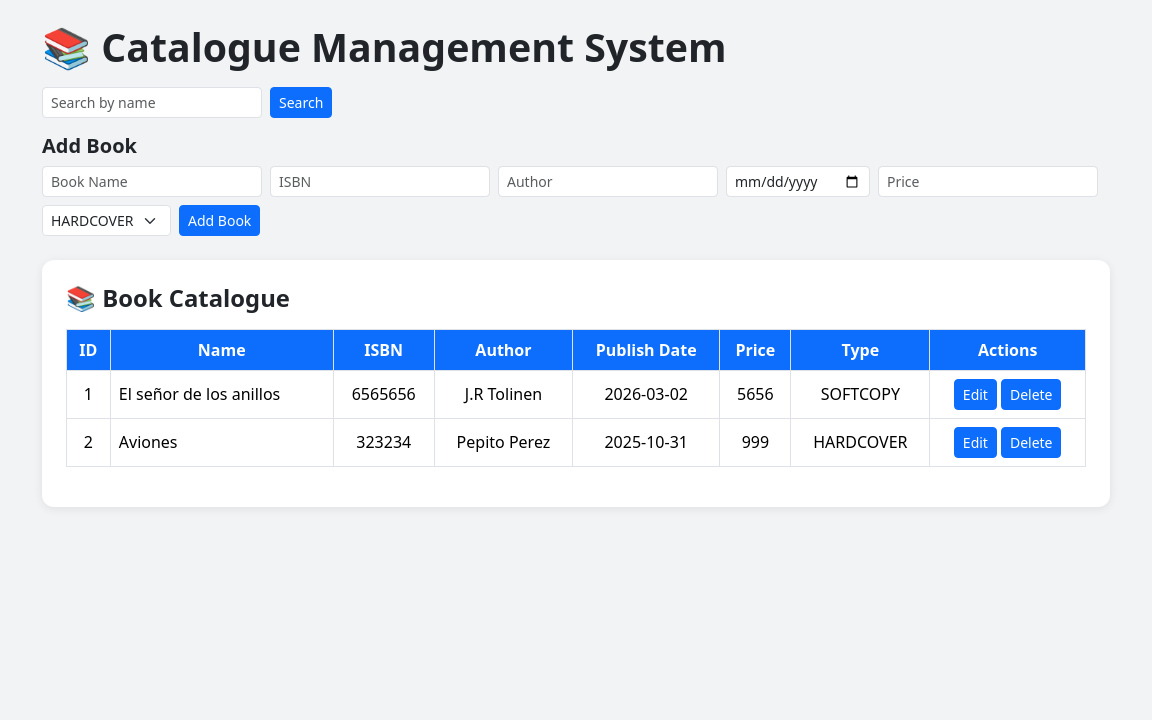
App (flujo completo CRUD + búsqueda) › editar un libro: precarga el formulario, actualiza y refleja el cambio en la tabla
Click the button "Edit" in the row of "Aviones" at coordinates (975, 442), box top-left (954, 427), bottom-right (997, 458)
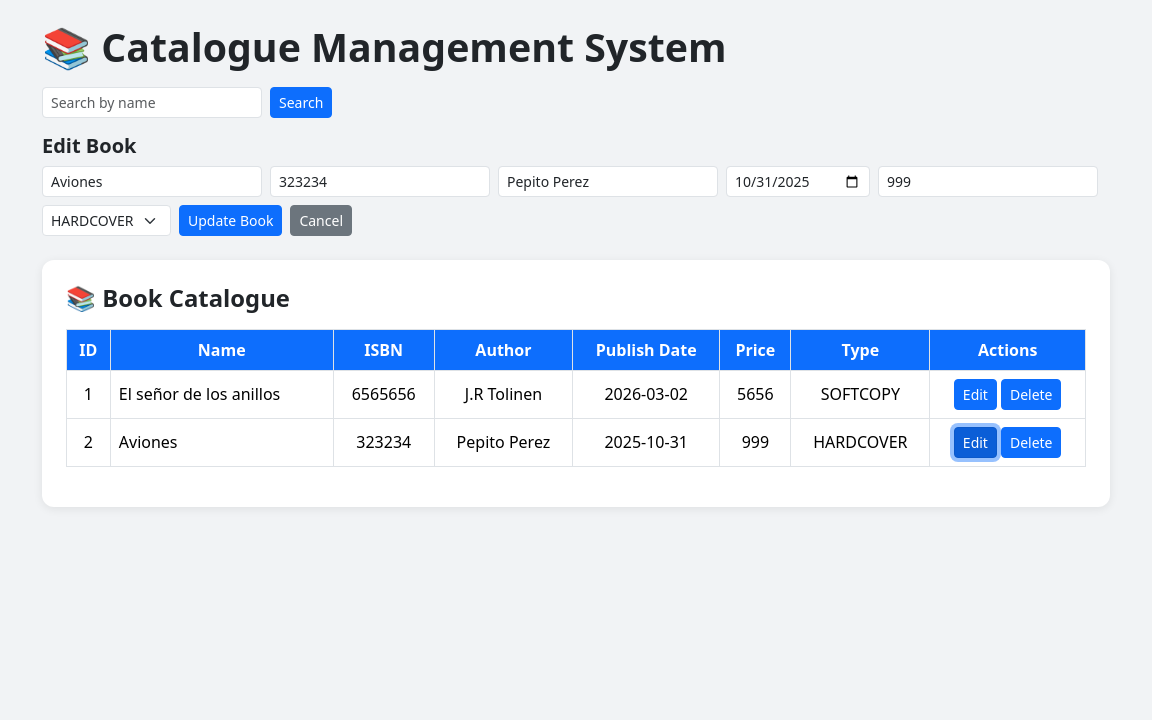
Now the heading "Edit Book" is shown, box top-left (42, 132), bottom-right (136, 159)
Now the field named "Book Name" holds "Aviones"
Replace the text in the field named "Book Name" with "Aviones y helicópteros" at coordinates (152, 182), box top-left (42, 166), bottom-right (262, 197)
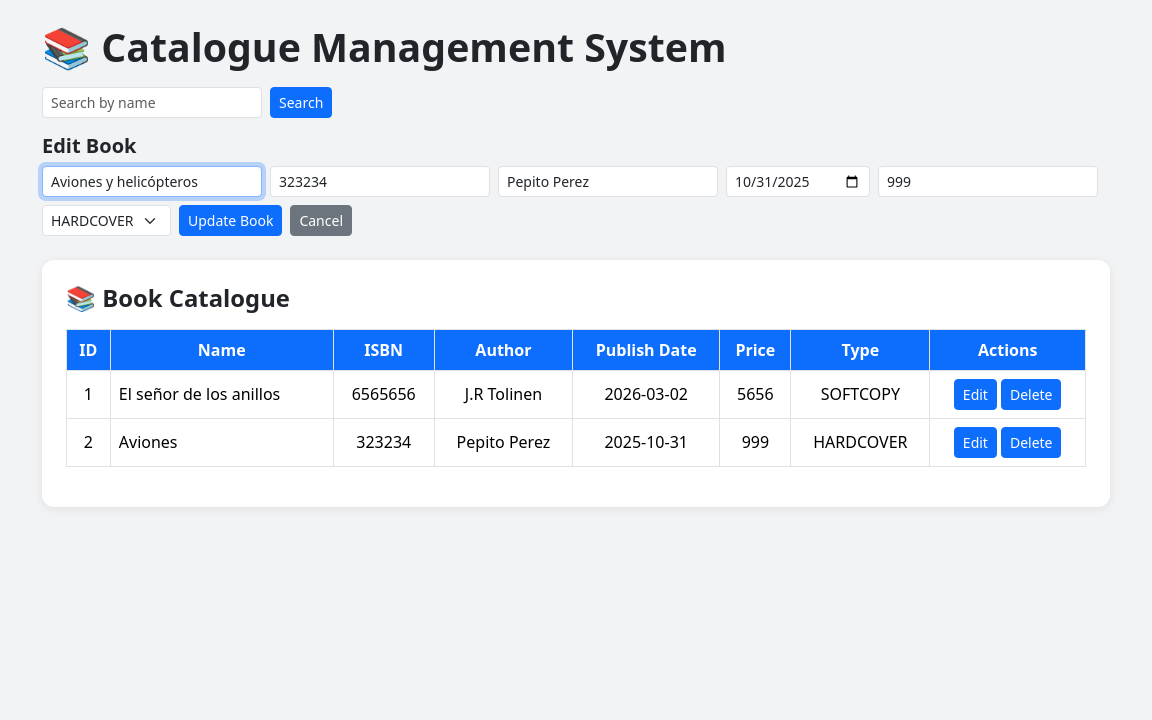
Click the button "Update Book" at coordinates (231, 221), box top-left (179, 205), bottom-right (282, 236)
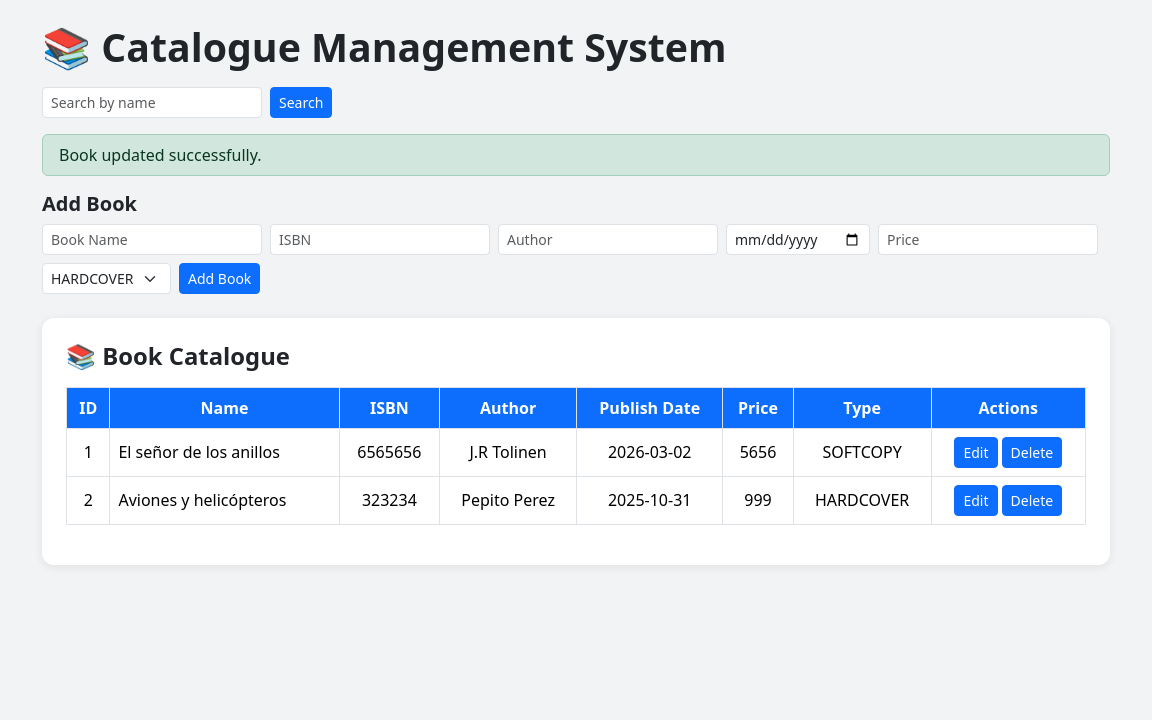
Now the text "Aviones y helicópteros" is shown, box top-left (110, 476), bottom-right (339, 524)
Now the message reads "Book updated successfully.", box top-left (59, 144), bottom-right (262, 166)
Now the heading "Add Book" is shown, box top-left (42, 190), bottom-right (137, 217)
